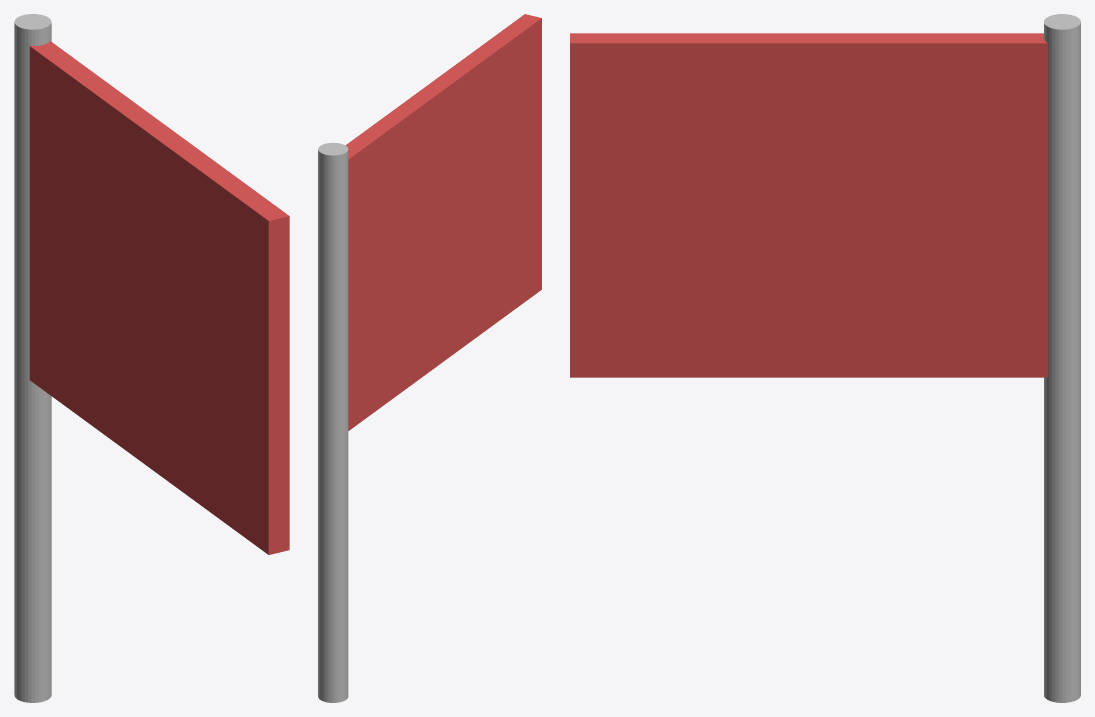
Rendered from goal.obj.
3 views of the same model, side by side, from view 1: azimuth 30°, elevation 25°; view 2: azimuth 150°, elevation 25°; view 3: azimuth 270°, elevation 25° (orthographic). The views are drawn at different scales.
Visible parts, largest first — view 1: 立方体; view 2: 立方体; view 3: 立方体.
Part boxes in pixels (left/top/right/bottom): 立方体: left=14, top=14, right=289, bottom=702; 立方体: left=318, top=14, right=541, bottom=702; 立方体: left=570, top=14, right=1080, bottom=702.
Bounding box in the file's own units: 0.1 × 2 × 1.38.
